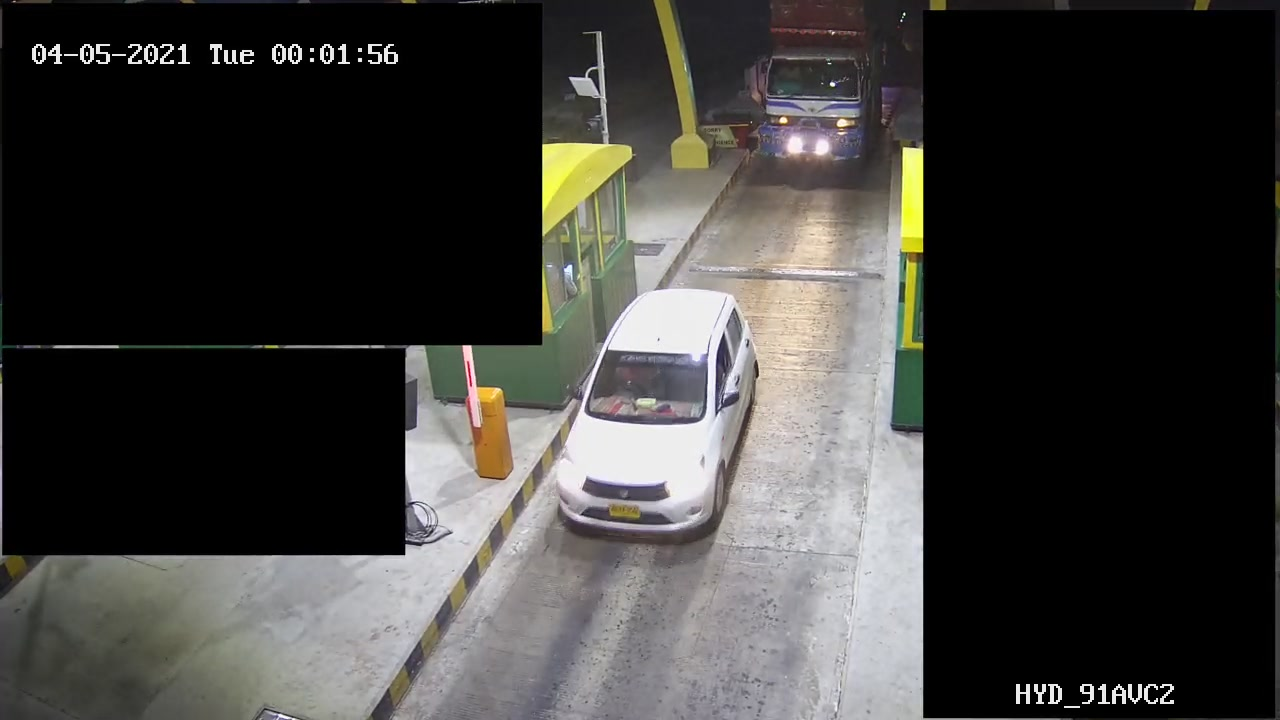F1: (550, 282, 773, 544)
